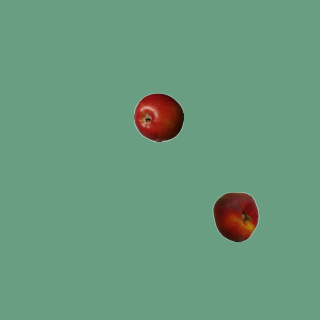Apple Braeburn: (133, 92, 183, 142)
Nectarine Flat: (210, 191, 260, 241)
